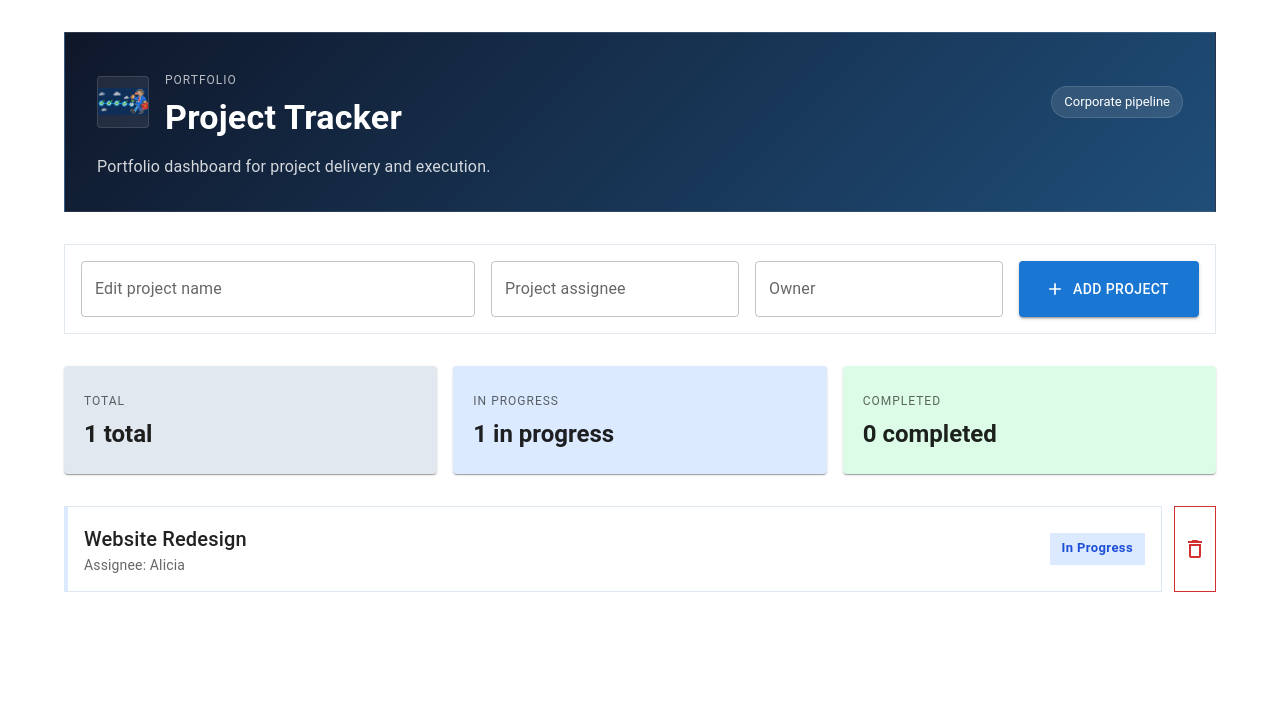
Test: edits project details from the selected project
Click the button with aria-label "select website redesign". click: (165, 539)
box: [64,506,1162,592]
(page scrolled)
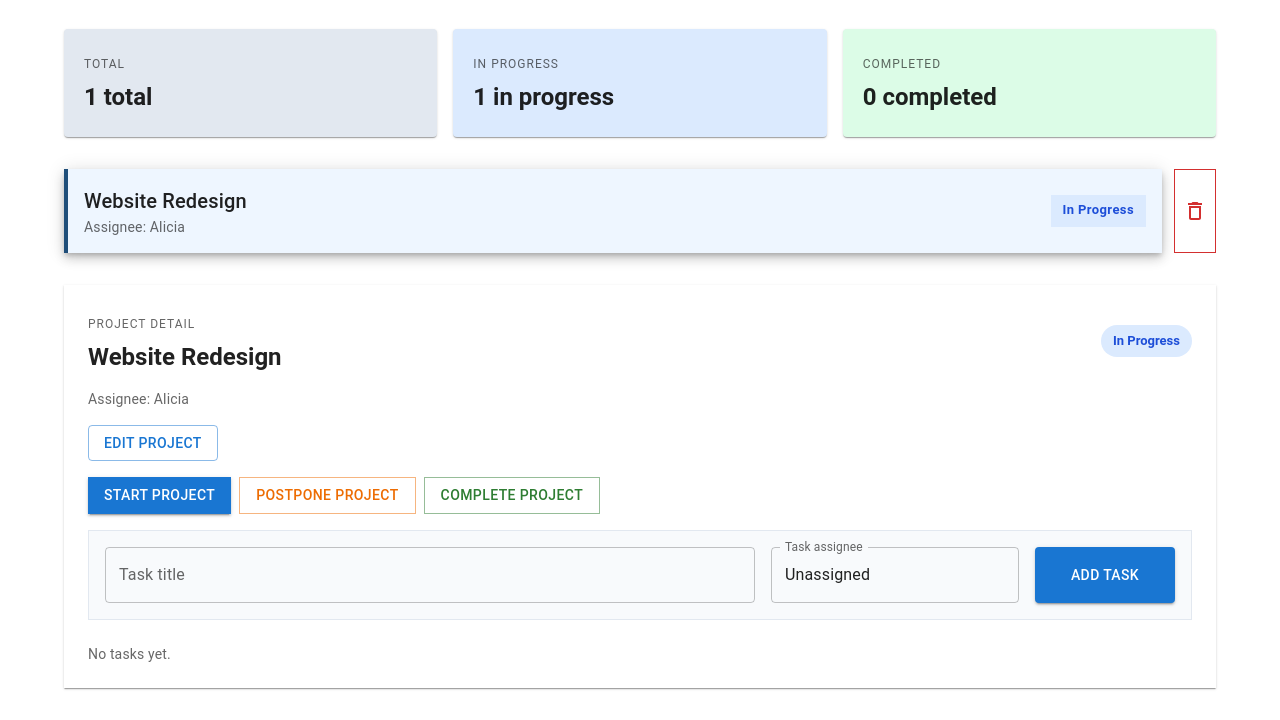
Click the button "Edit project". click: (153, 443)
box: [88,425,218,461]
(page scrolled)
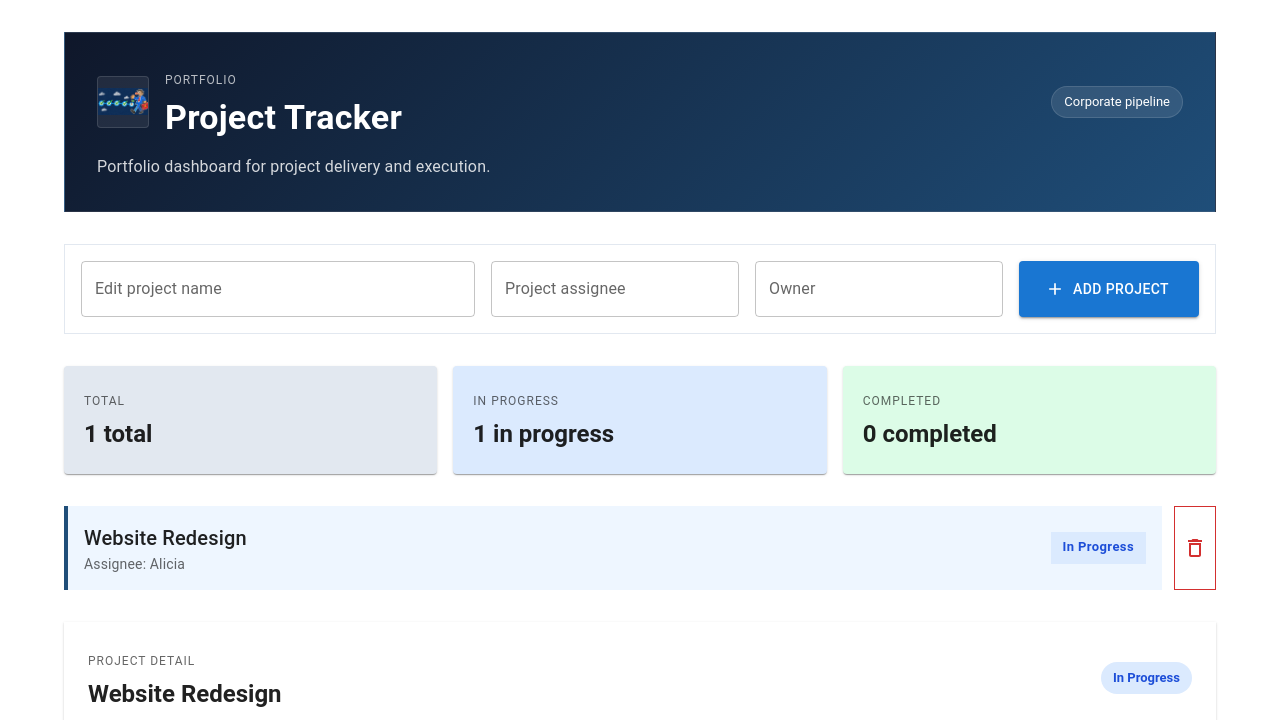
Type "Website Refresh" into the field labelled "Edit project name". click: (278, 289)
box: [81,261,475,317]
(page scrolled)
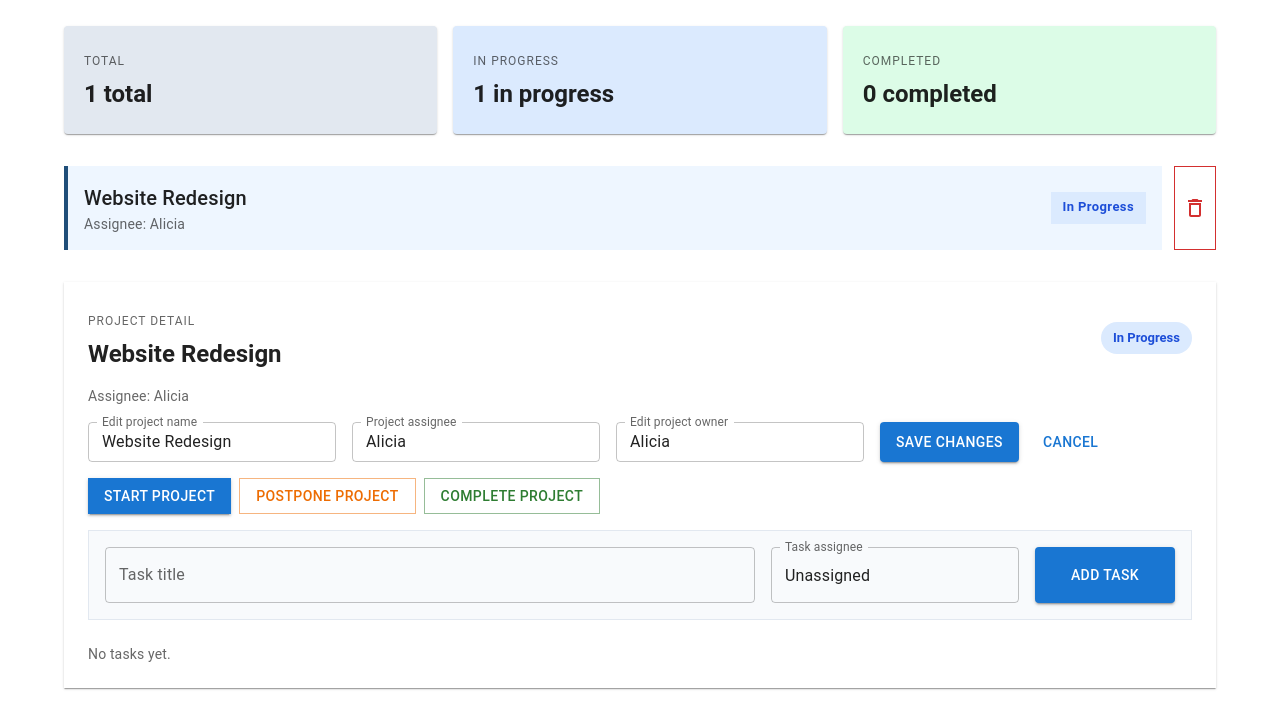
Replace the text in the field labelled "Edit project owner" with "Sam". click: (740, 442)
box: [616,422,864,462]
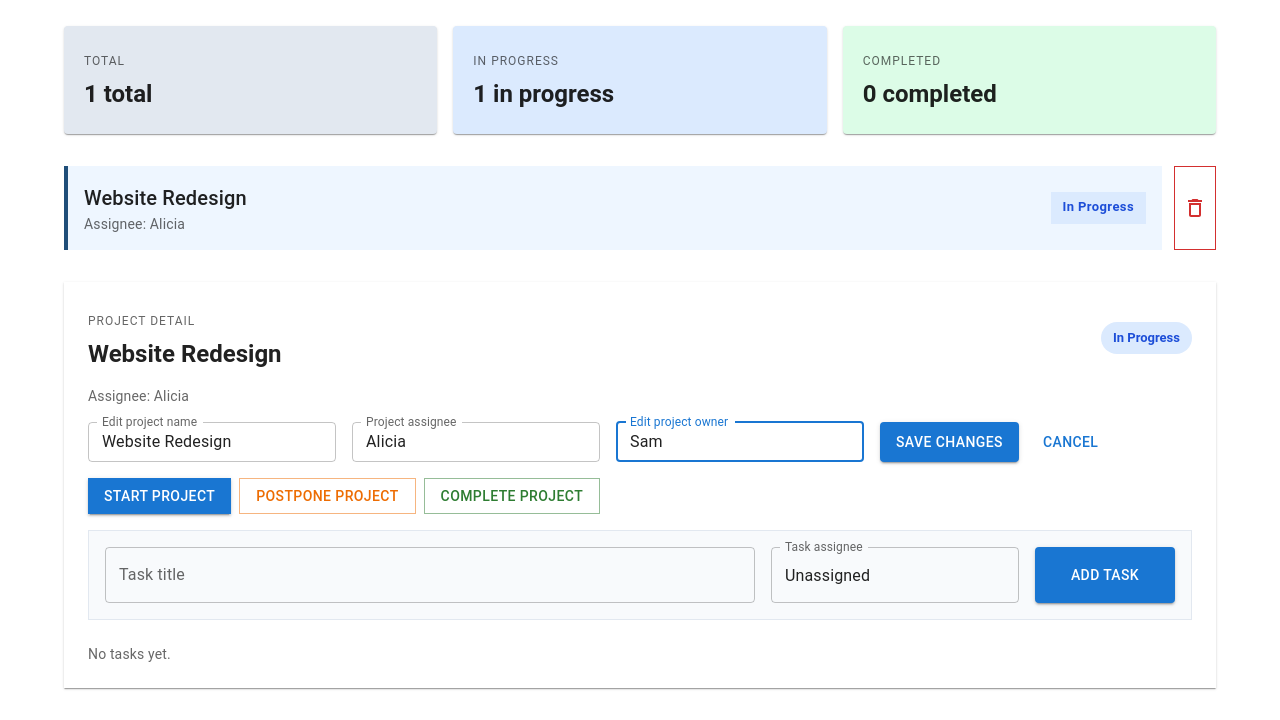
Click the button "Save changes". click: (949, 442)
box: [880,422,1019,462]
(page scrolled)
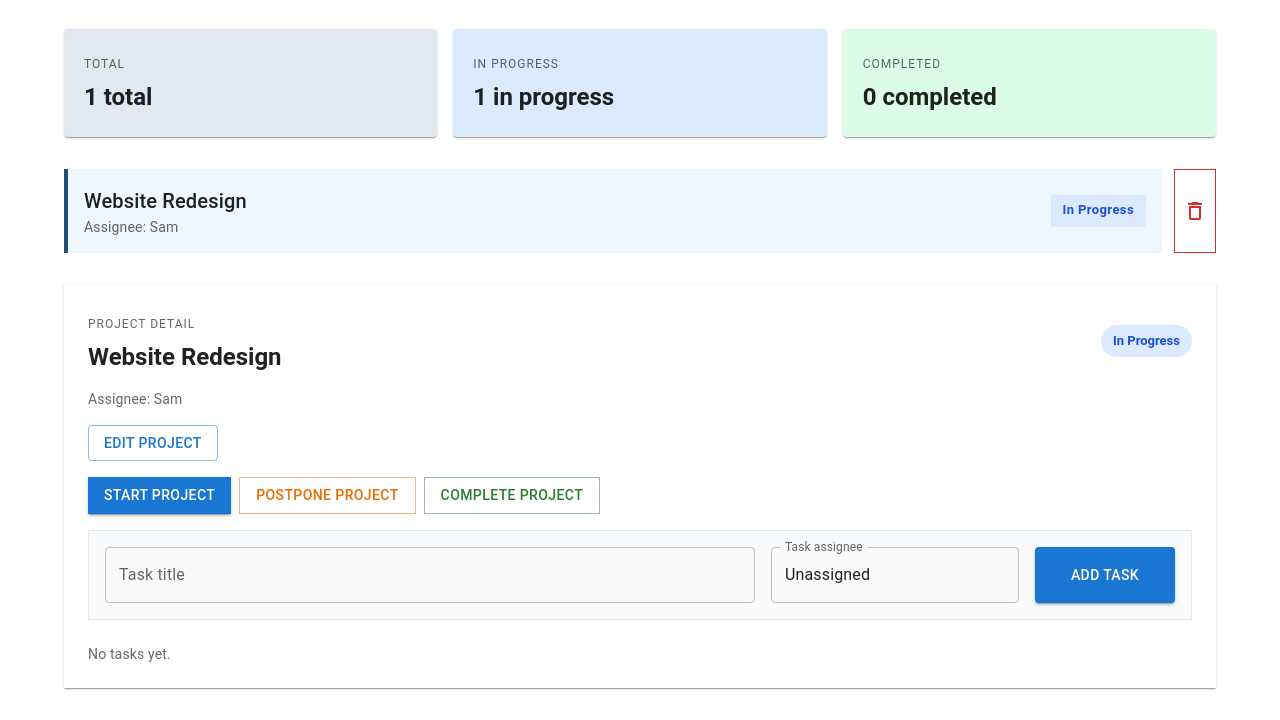
Expected: the button "Save changes" is gone
